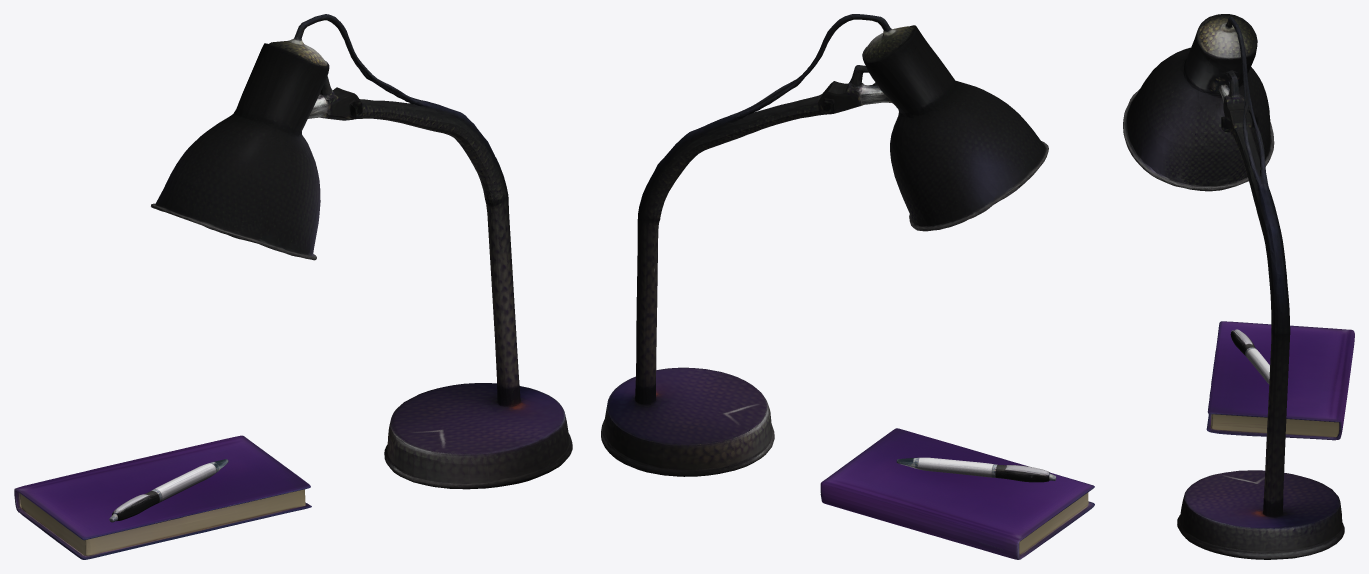
Rendered from vlm-7.glb.
3 renders of one model, left to right at view 1: azimuth 30°, elevation 25°; view 2: azimuth 150°, elevation 25°; view 3: azimuth 270°, elevation 25°, orthographic. The views are drawn at different scales.
Parts seen in each view (by area): view 1: mesh_2; view 2: mesh_2; view 3: mesh_2.
Part boxes in pixels (left/top/right/bottom): mesh_2: left=14, top=14, right=572, bottom=559; mesh_2: left=601, top=14, right=1094, bottom=559; mesh_2: left=1123, top=14, right=1354, bottom=559.
Size of the model in its own units: 4.7 by 4.44 by 2.15.
3 materials, 3 textured.
